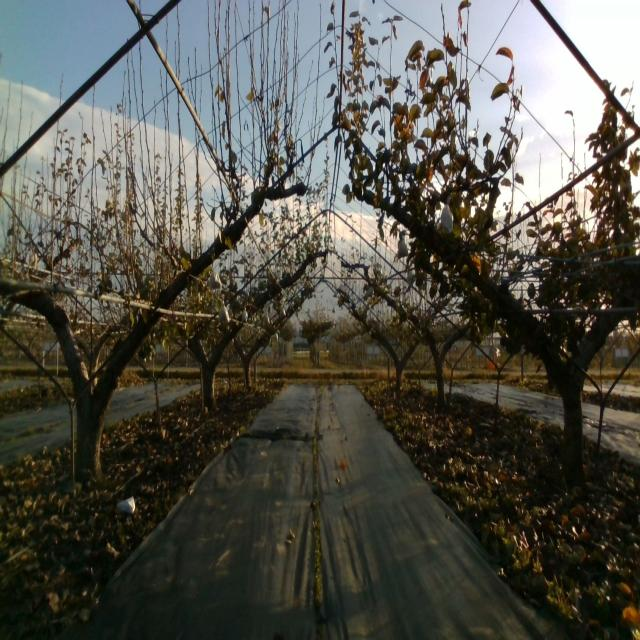pearbags: (440, 203, 454, 233), (209, 268, 222, 291), (218, 301, 230, 325), (396, 238, 409, 258)
